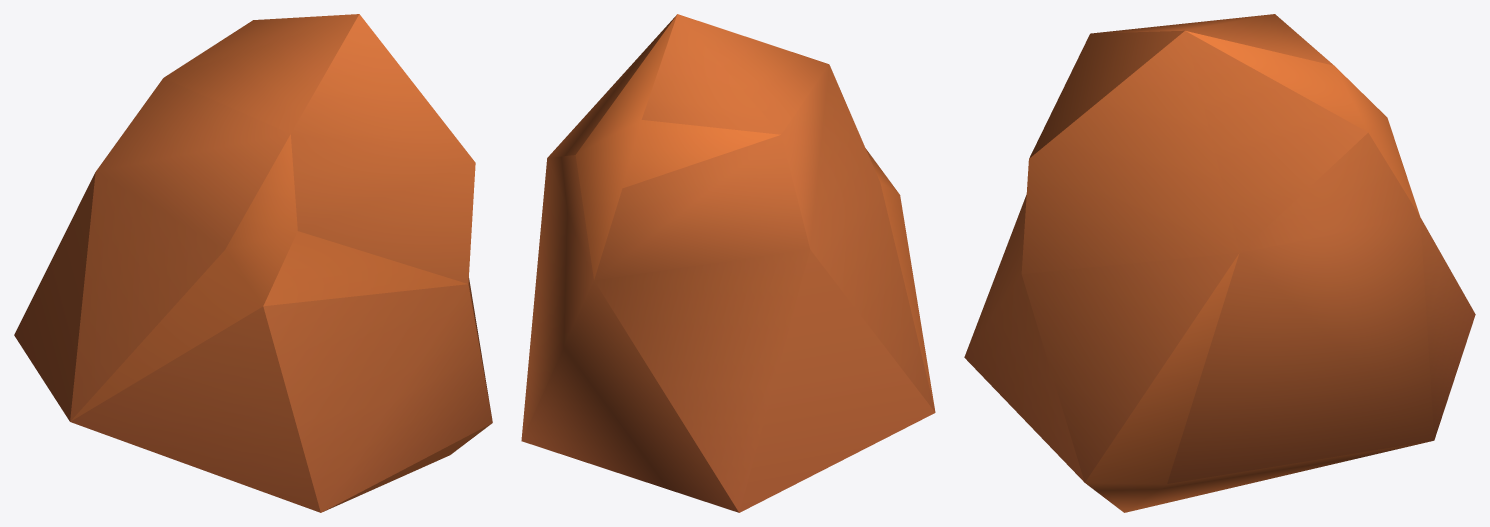
Rendered from Copper_Nugget_Medium.glb.
The picture shows the model from 3 angles, left to right: view 1: azimuth 30°, elevation 25°; view 2: azimuth 150°, elevation 25°; view 3: azimuth 270°, elevation 25°; orthographic projection. The views are drawn at different scales.
Visible parts, largest first — view 1: Copper_Nugget_Medium; view 2: Copper_Nugget_Medium; view 3: Copper_Nugget_Medium.
Boxes of the visible parts, box(x1,y1,x2,y2) form: Copper_Nugget_Medium: box(14, 14, 492, 512); Copper_Nugget_Medium: box(521, 14, 935, 512); Copper_Nugget_Medium: box(964, 14, 1475, 512).
Bounding box in the file's own units: 0.2589 × 0.2781 × 0.2819.
1 material, 1 textured.
